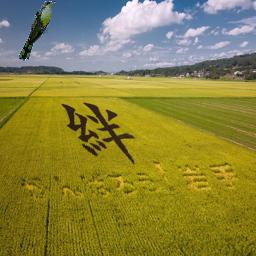Cuckoo: (19, 1, 56, 61)
